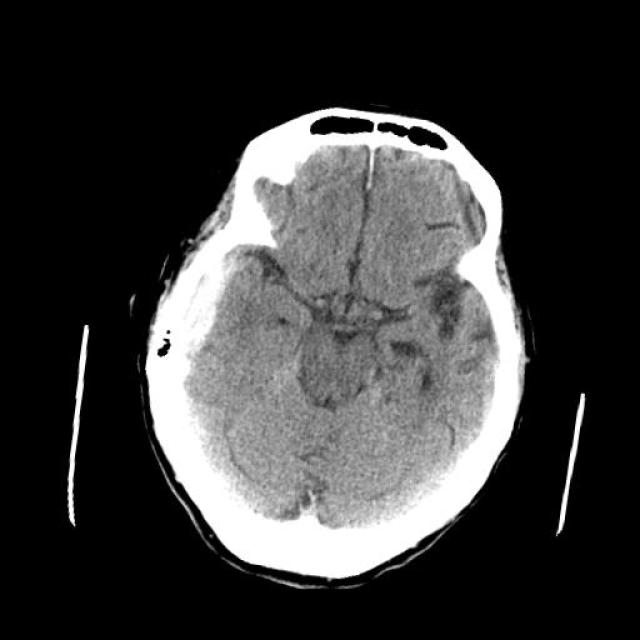Subdural: (138, 228, 260, 413)
